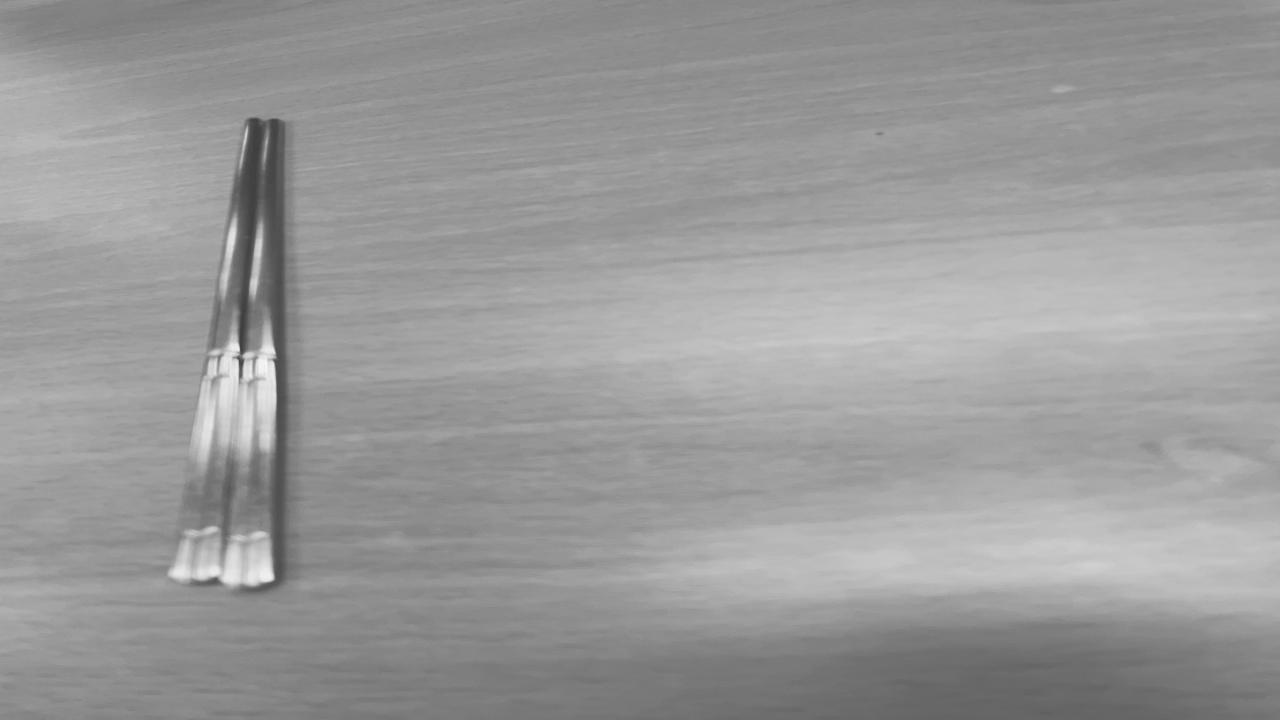chopstick: (176, 119, 279, 590)
